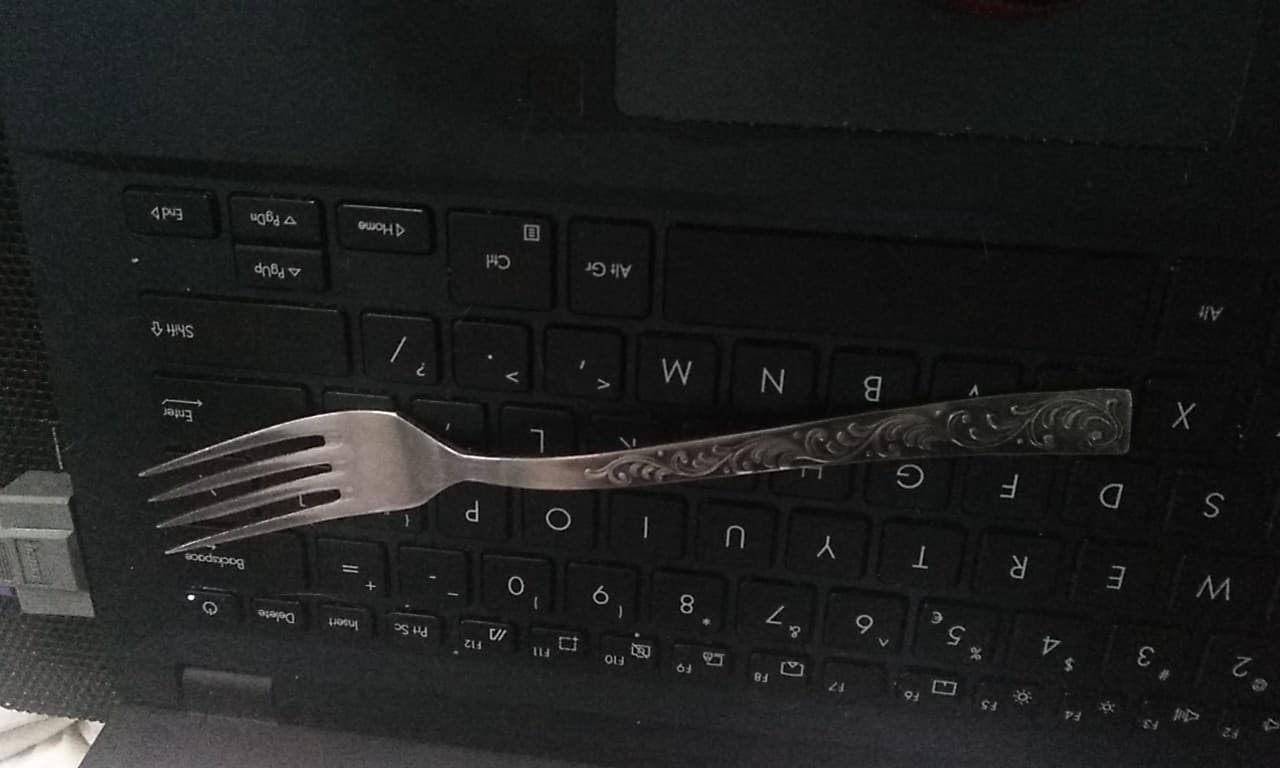Widelec: (137, 405, 445, 567)
